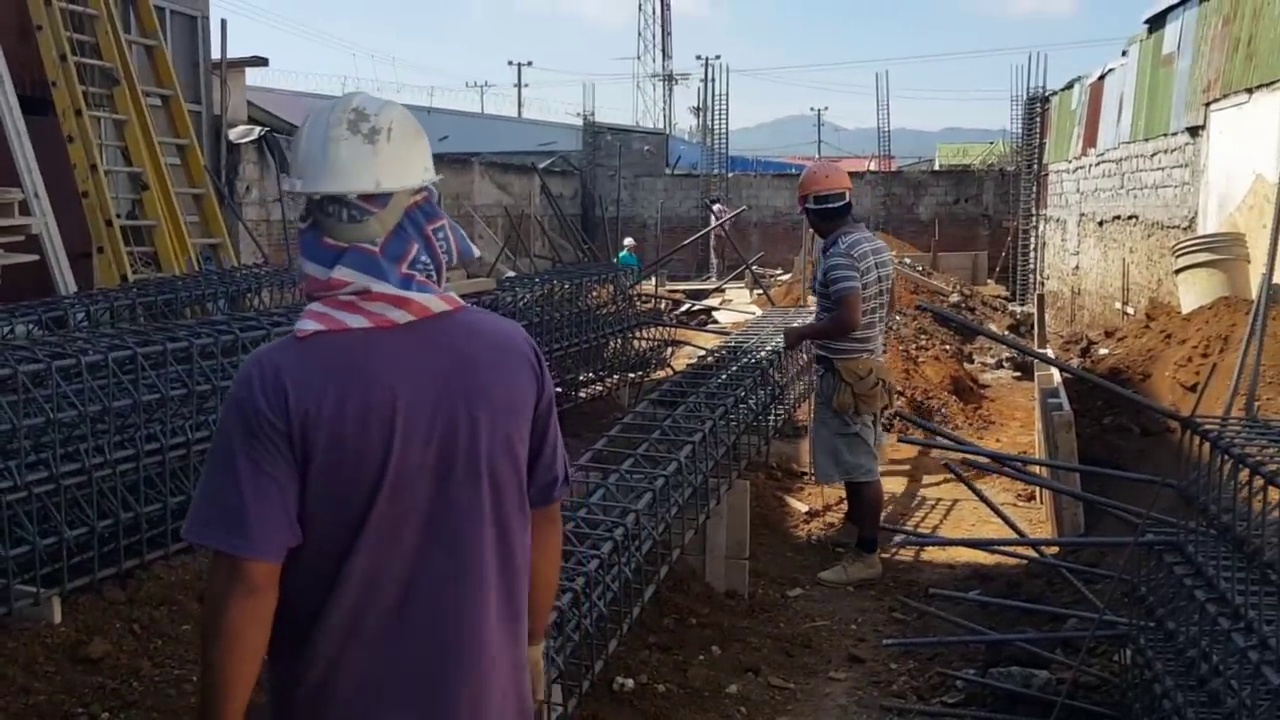helmet: (274, 87, 446, 196), (793, 162, 855, 215), (622, 237, 637, 247)
helmet-off: (708, 195, 721, 207)
helmet-on: (277, 88, 447, 296), (792, 160, 856, 242), (622, 237, 637, 253)
person: (181, 87, 573, 716), (783, 160, 895, 588), (709, 196, 733, 283), (614, 236, 642, 281)
